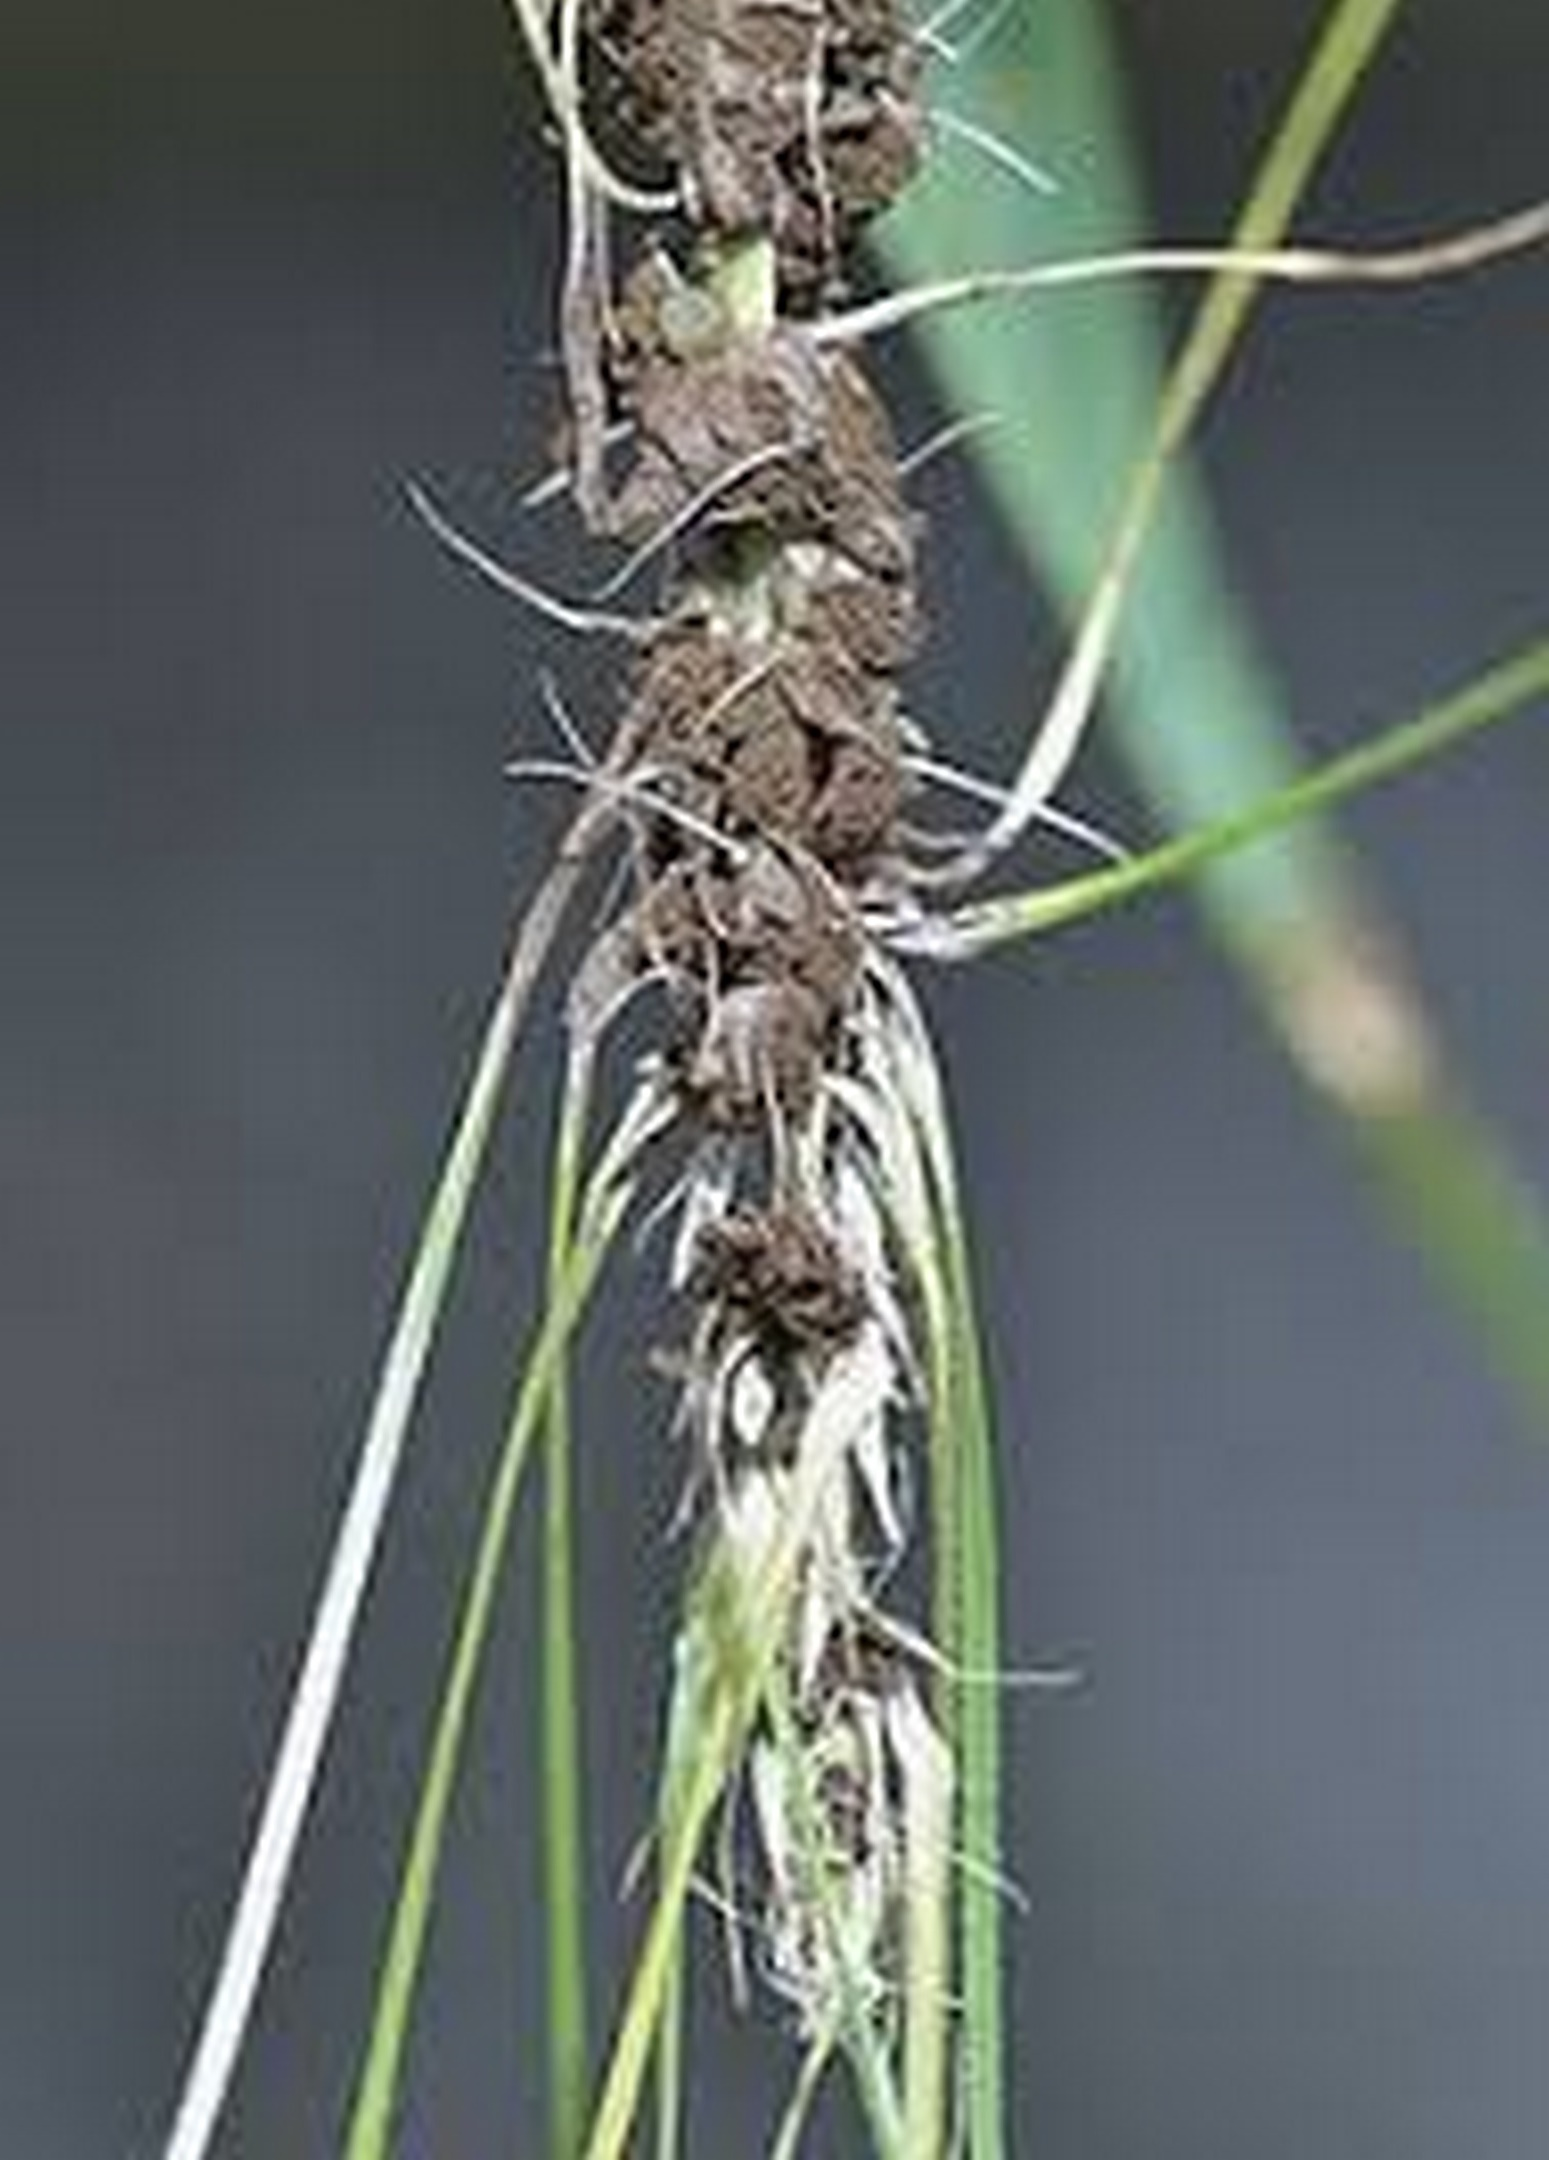Wheat Loose Smut: (495, 15, 996, 1989)
